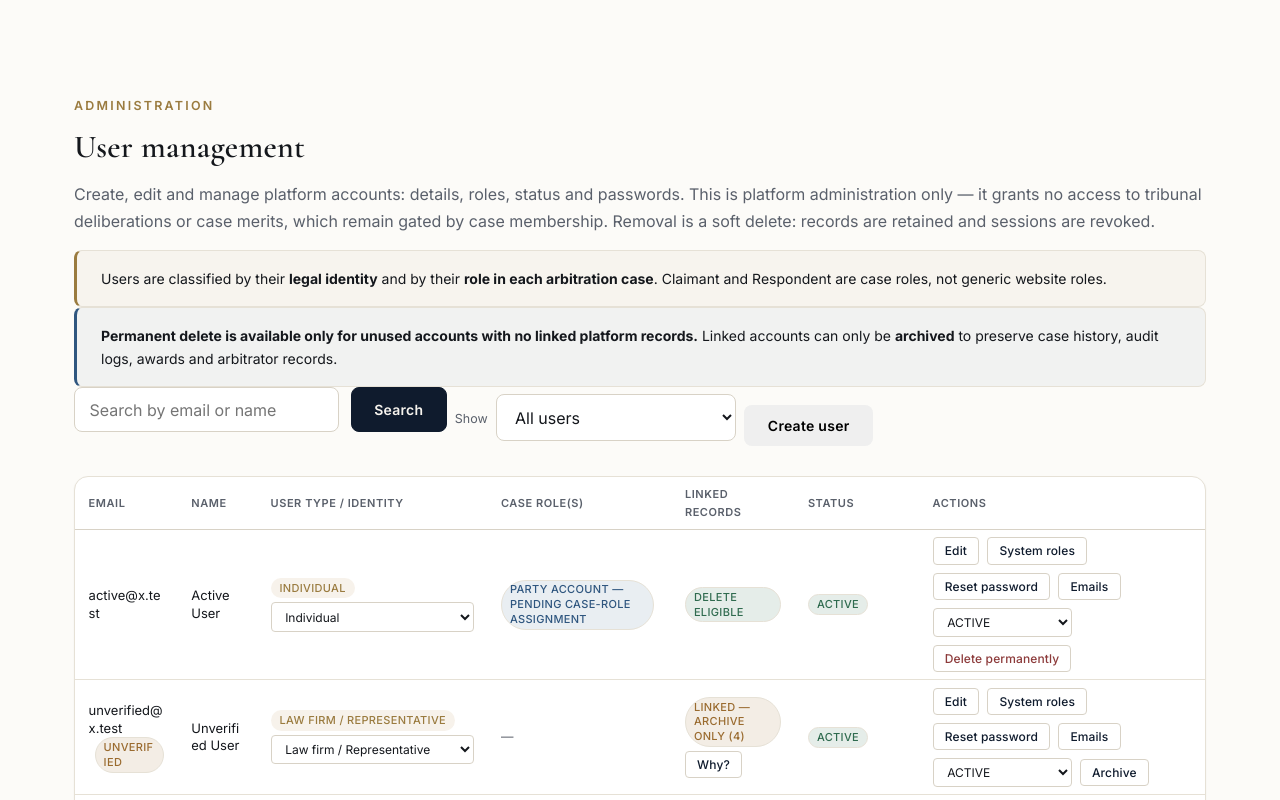
Scenario: AdminUsers — delete-eligibility clarity › filters to delete-eligible users only
This screenshot has width=1280, height=800.
Check: the text "active@x.test" is shown, box [75,530,178,680]
Select "Delete-eligible (unlinked)" in the dropdown named "Filter users" at (616, 418), box [496,394,736,441]
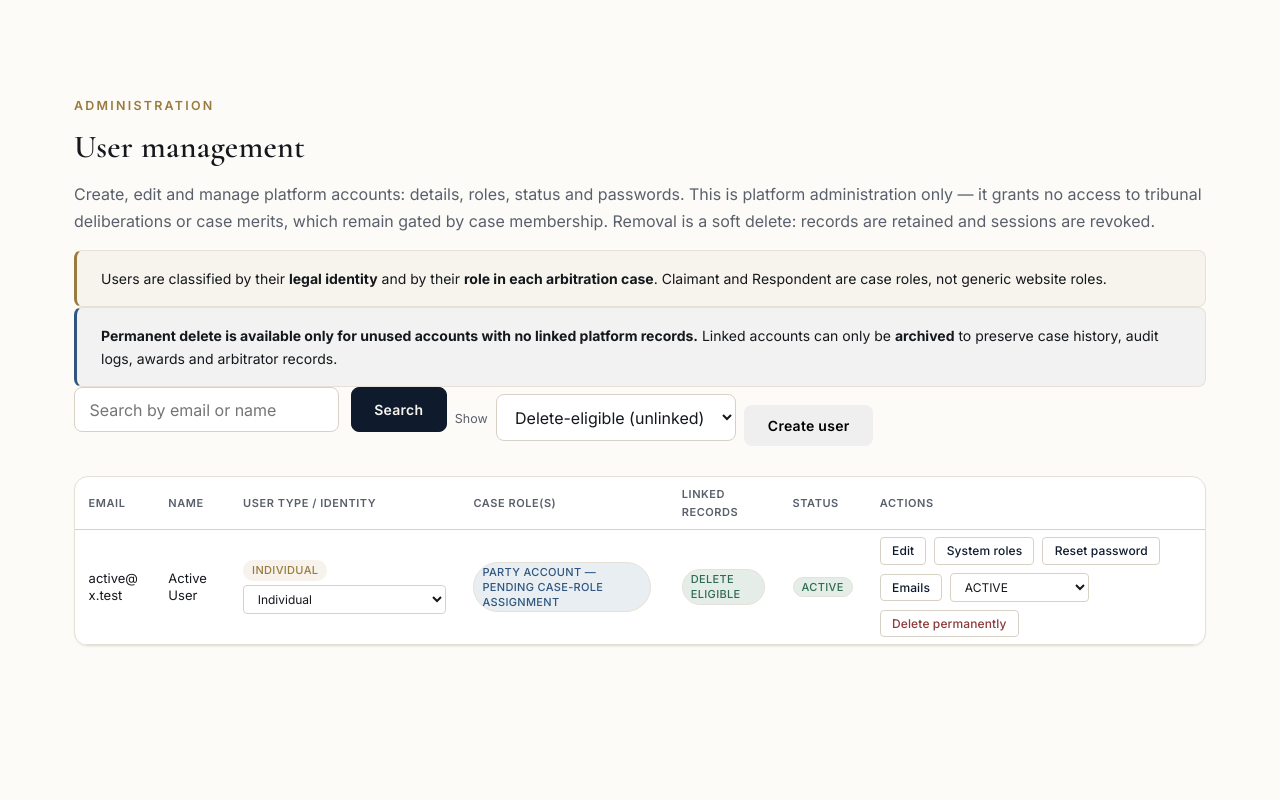
Check: the text "active@x.test" is shown, box [75,530,155,645]
Check: the text "unverified@x.test" is gone
